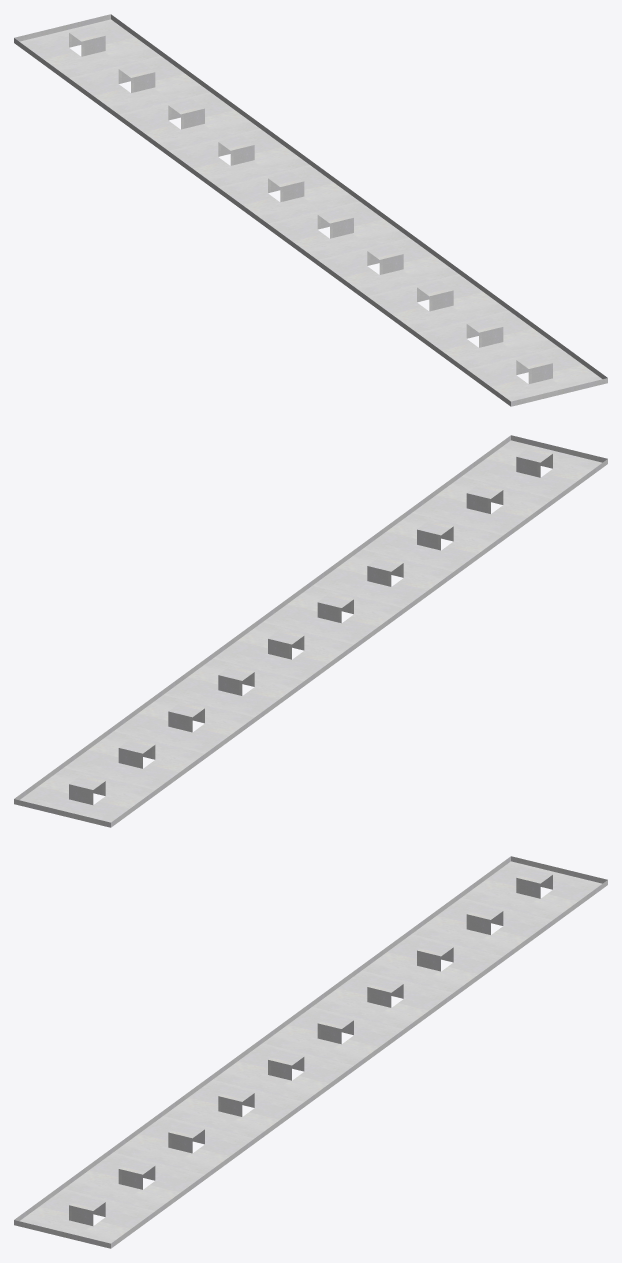
The model's file is pabellon_4_pasillo.fbx.
The picture shows the model from 3 angles, top to bottom: view 1: azimuth 30°, elevation 25°; view 2: azimuth 150°, elevation 25°; view 3: azimuth 330°, elevation 25°; orthographic projection.
Parts seen in each view (by area): view 1: pab_4_pasillo_final; view 2: pab_4_pasillo_final; view 3: pab_4_pasillo_final.
Part boxes in pixels (x1=…): pab_4_pasillo_final: x1=14, y1=14, x2=607, y2=406; pab_4_pasillo_final: x1=14, y1=435, x2=607, y2=827; pab_4_pasillo_final: x1=14, y1=856, x2=607, y2=1248.
Size of the model in its own units: 610 by 91.11 by 5412.
